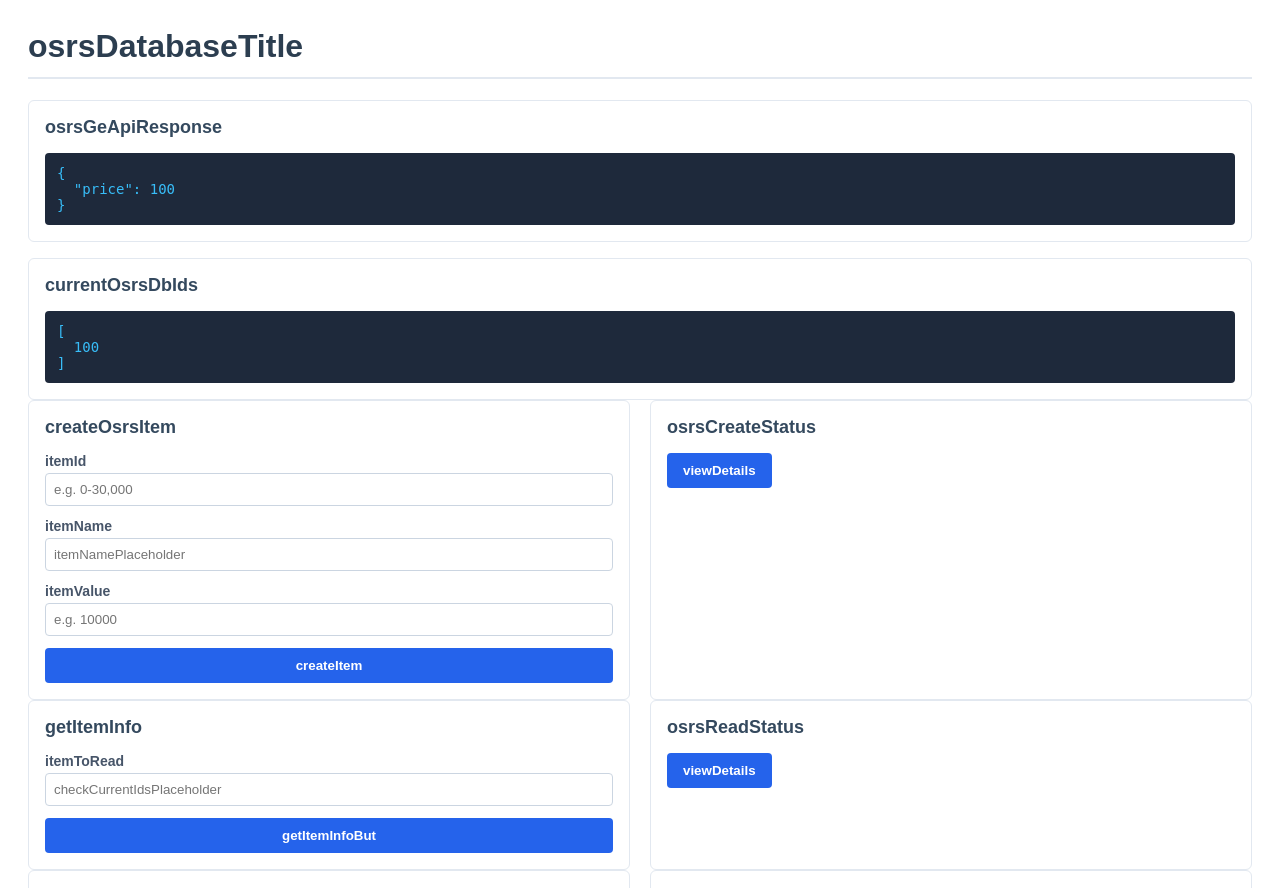
Scenario: OSRSPage Component Unit Tests › Creates items and inspects the results code block
Enter in simulated data
Type "4151" into the number field with placeholder "e.g. 0-30,000" at (329, 490), box [45,473,613,506]
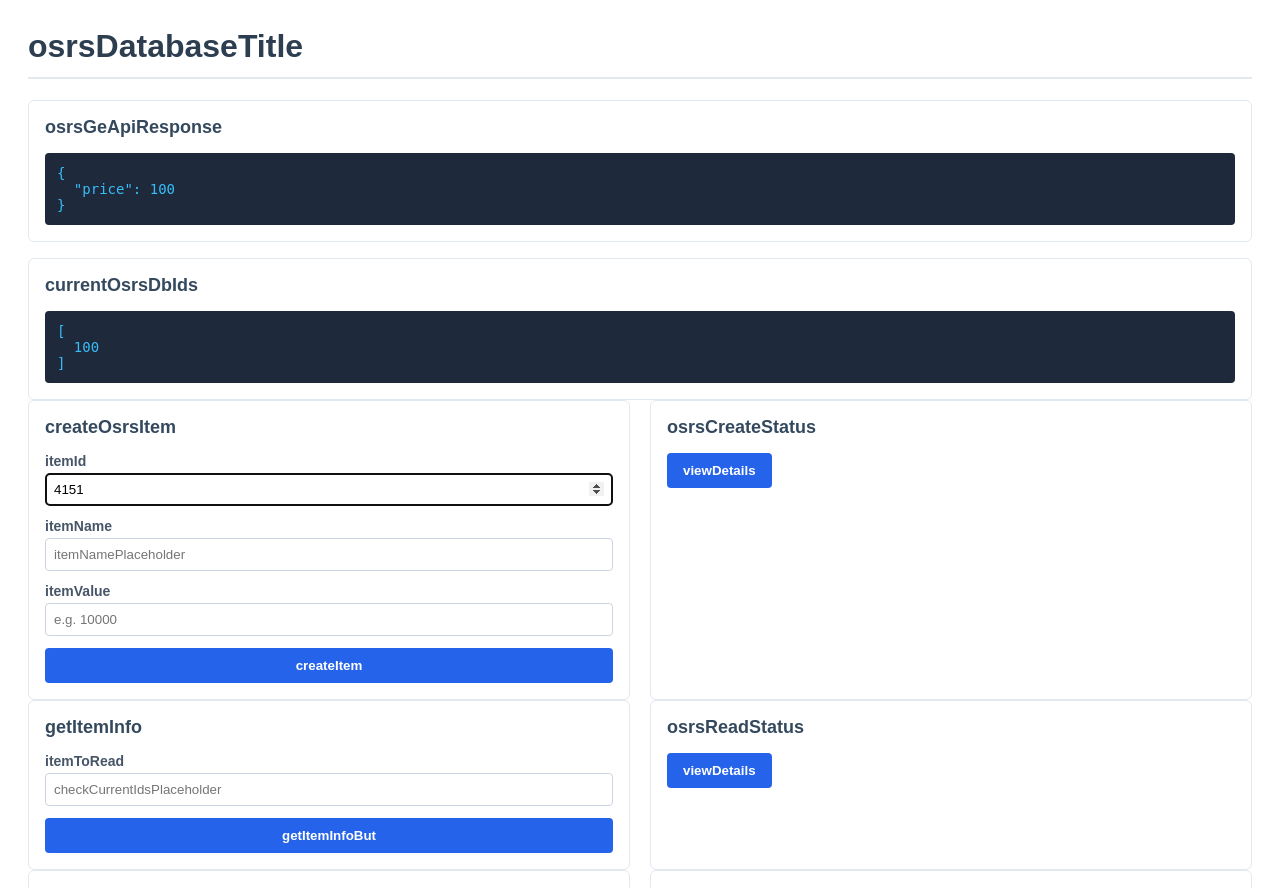
Type "Abyssal Whip" into the field with placeholder "itemNamePlaceholder" at (329, 555), box [45,538,613,571]
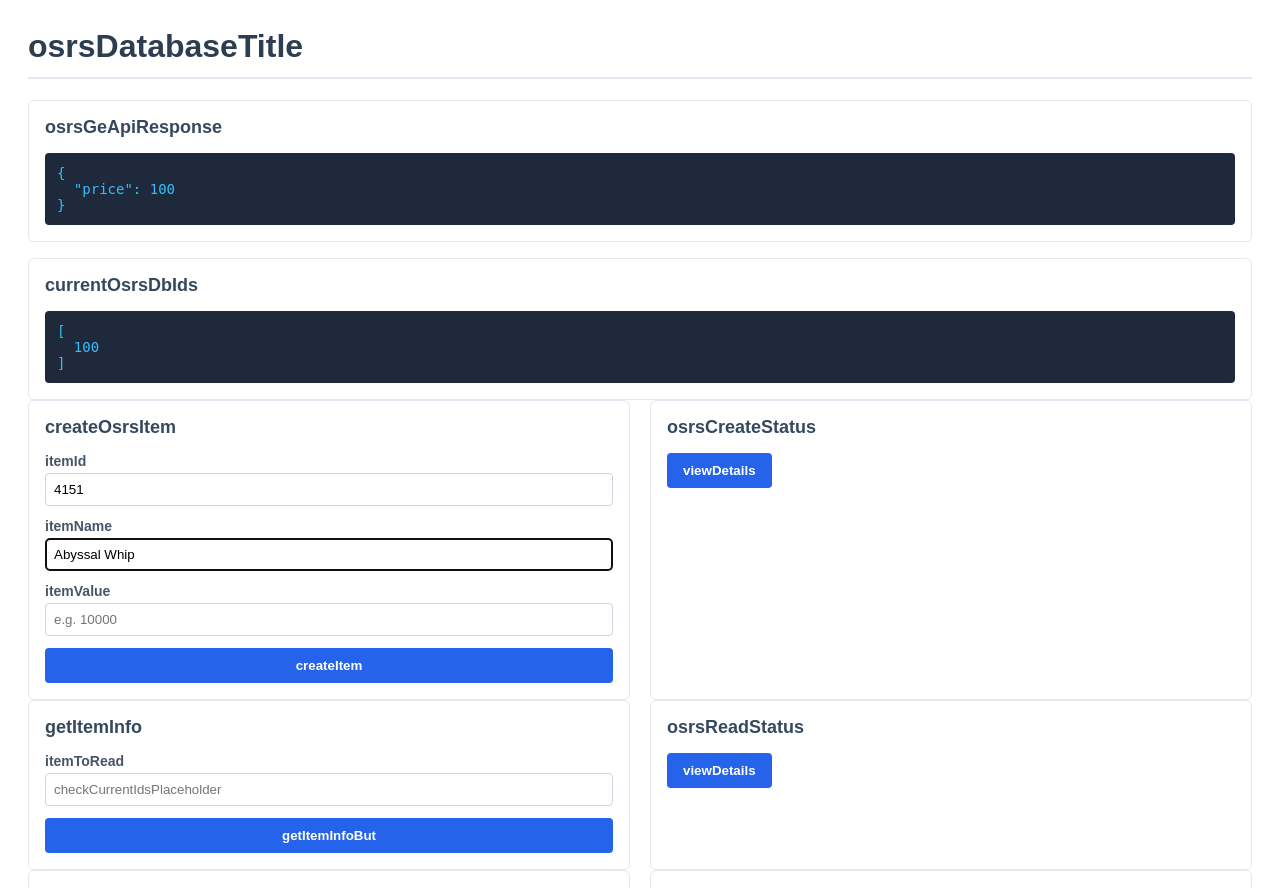
Type "1500000" into the number field with placeholder "e.g. 10000" at (329, 620), box [45,603,613,636]
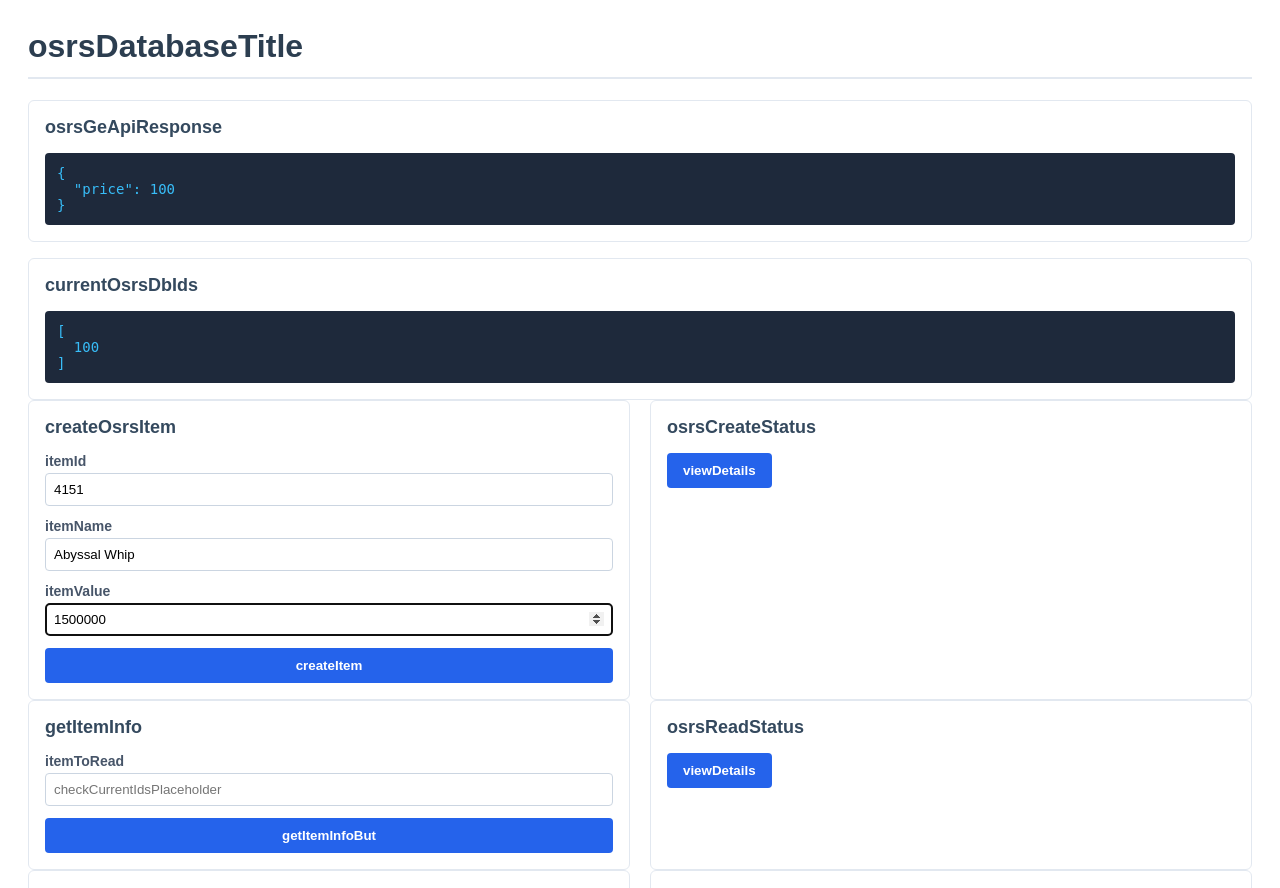
Simulate a submit click
Click the button "createItem" at (329, 666), box [45,648,613,683]
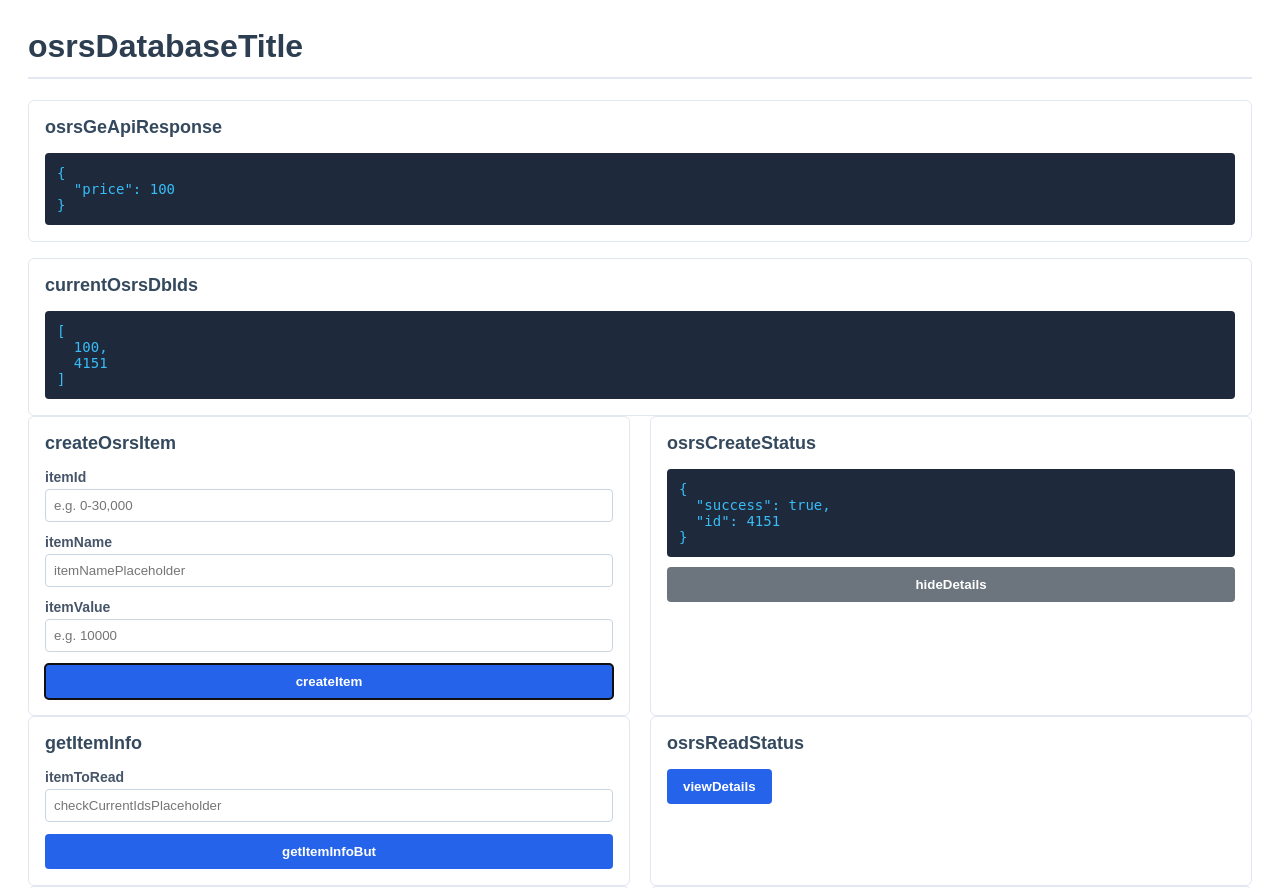
Now the text "[ 100, 4151 ]" is shown, box [45,311,1235,399]
Now the number field with placeholder "e.g. 0-30,000" is empty, box [45,489,613,522]
Now the field with placeholder "itemNamePlaceholder" is empty, box [45,554,613,587]
